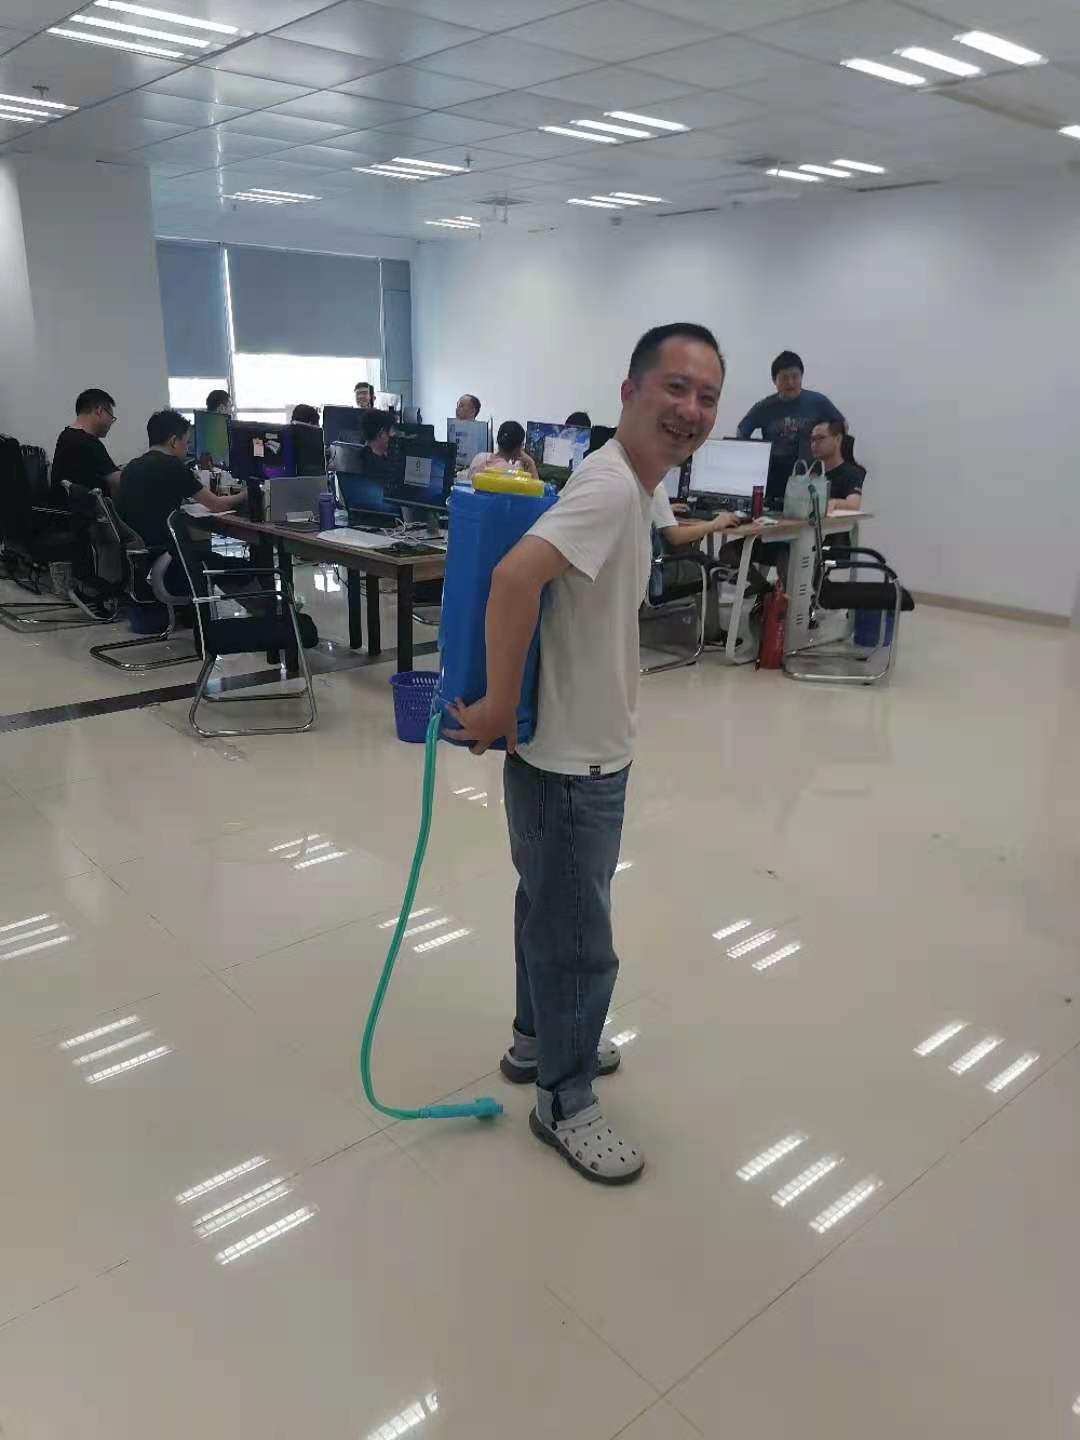berrl: (422, 461, 562, 761)
